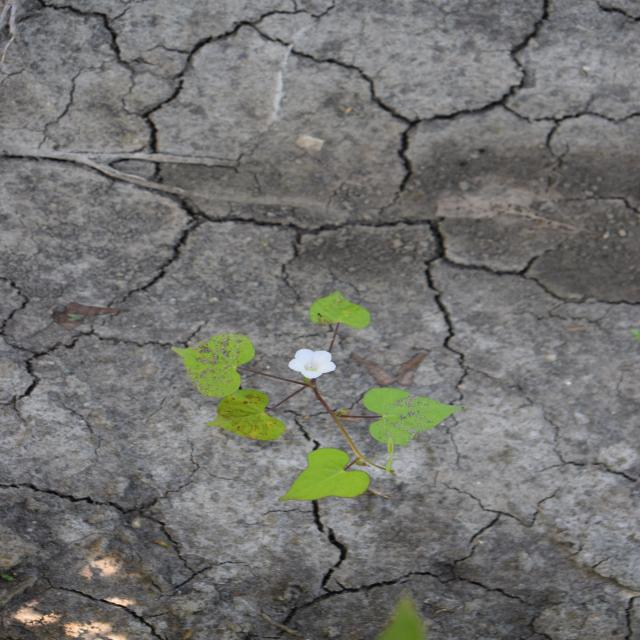MorningGlory: (168, 290, 471, 503)
